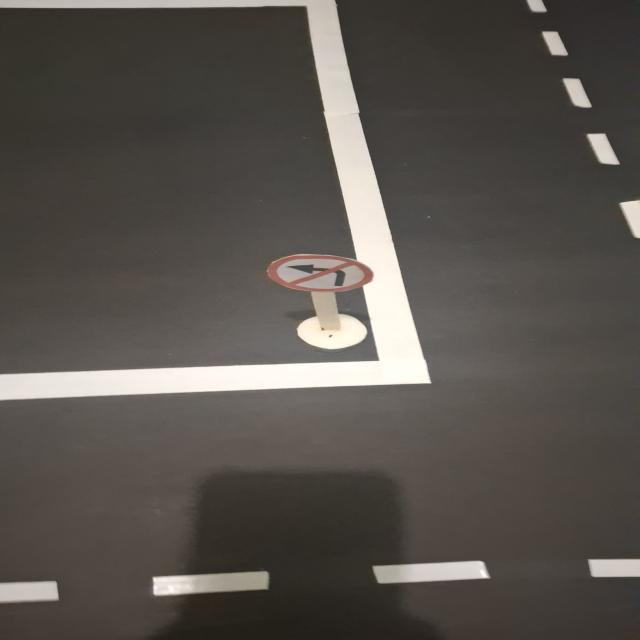Dilarang Belok Kiri: (268, 254, 374, 292)
